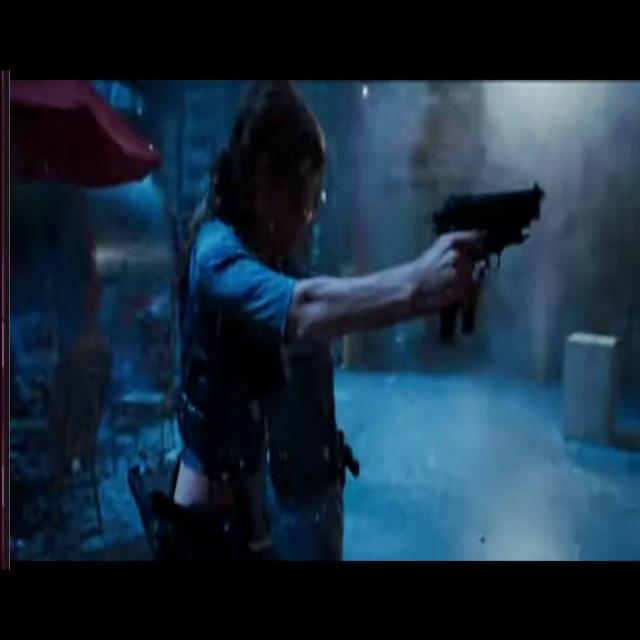weapons: (424, 169, 554, 350)
